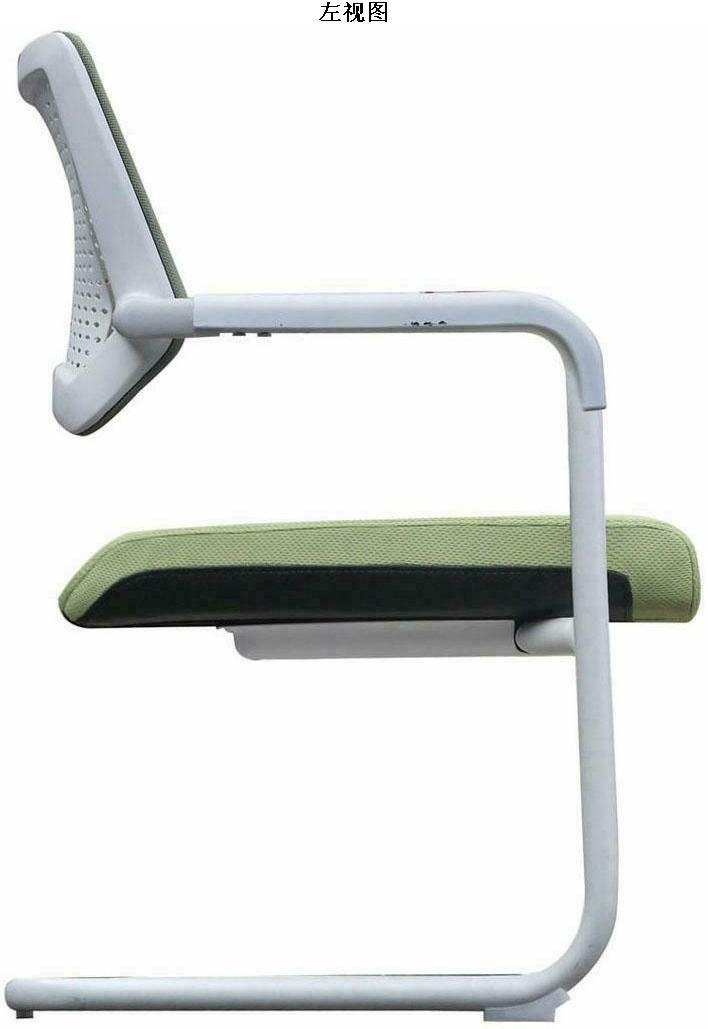obstacle: (2, 0, 705, 980)
